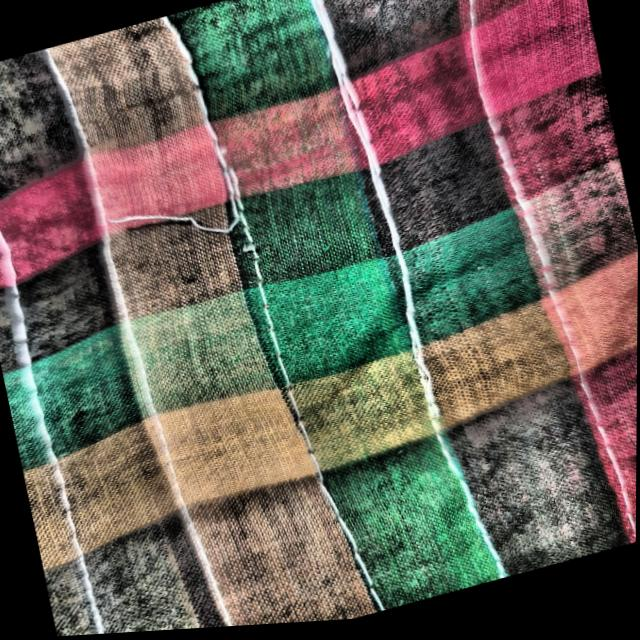Stitch: (298, 0, 441, 437), (108, 188, 243, 264), (462, 33, 490, 103)
